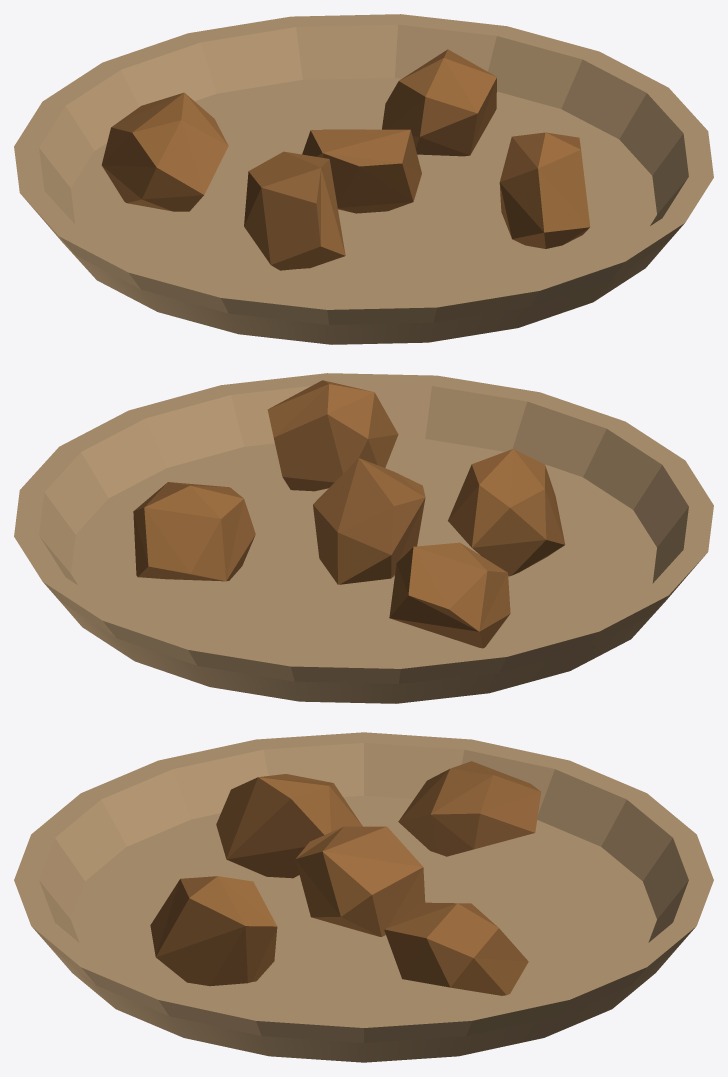
The model's file is Vessel_5.fbx.
3 views of the same model, one above another, from view 1: azimuth 30°, elevation 25°; view 2: azimuth 150°, elevation 25°; view 3: azimuth 270°, elevation 25° (orthographic).
Visible parts, largest first — view 1: Saucer, CopperPieceBig5, CopperPieceBig2, CopperPieceBig4, CopperPieceBig3, CopperPieceBig1; view 2: Saucer, CopperPieceBig1, CopperPieceBig3, CopperPieceBig4, CopperPieceBig2, CopperPieceBig5; view 3: Saucer, CopperPieceBig4, CopperPieceBig1, CopperPieceBig2, CopperPieceBig3, CopperPieceBig5.
Boxes of the visible parts, box(x1,y1,x2,y2) form: Saucer: box(14, 14, 713, 344); CopperPieceBig5: box(101, 92, 228, 211); CopperPieceBig2: box(244, 151, 345, 270); CopperPieceBig4: box(499, 132, 590, 248); CopperPieceBig3: box(382, 49, 496, 156); CopperPieceBig1: box(302, 129, 421, 213); Saucer: box(14, 373, 713, 703); CopperPieceBig1: box(313, 458, 425, 584); CopperPieceBig3: box(133, 482, 255, 581); CopperPieceBig4: box(267, 380, 398, 491); CopperPieceBig2: box(448, 449, 565, 576); CopperPieceBig5: box(389, 542, 510, 648); Saucer: box(14, 732, 713, 1062); CopperPieceBig4: box(150, 876, 277, 986); CopperPieceBig1: box(295, 826, 425, 936); CopperPieceBig2: box(216, 774, 362, 878); CopperPieceBig3: box(384, 902, 528, 995); CopperPieceBig5: box(398, 761, 541, 856).
Size of the model in its own units: 21.13 by 3.65 by 21.13.
